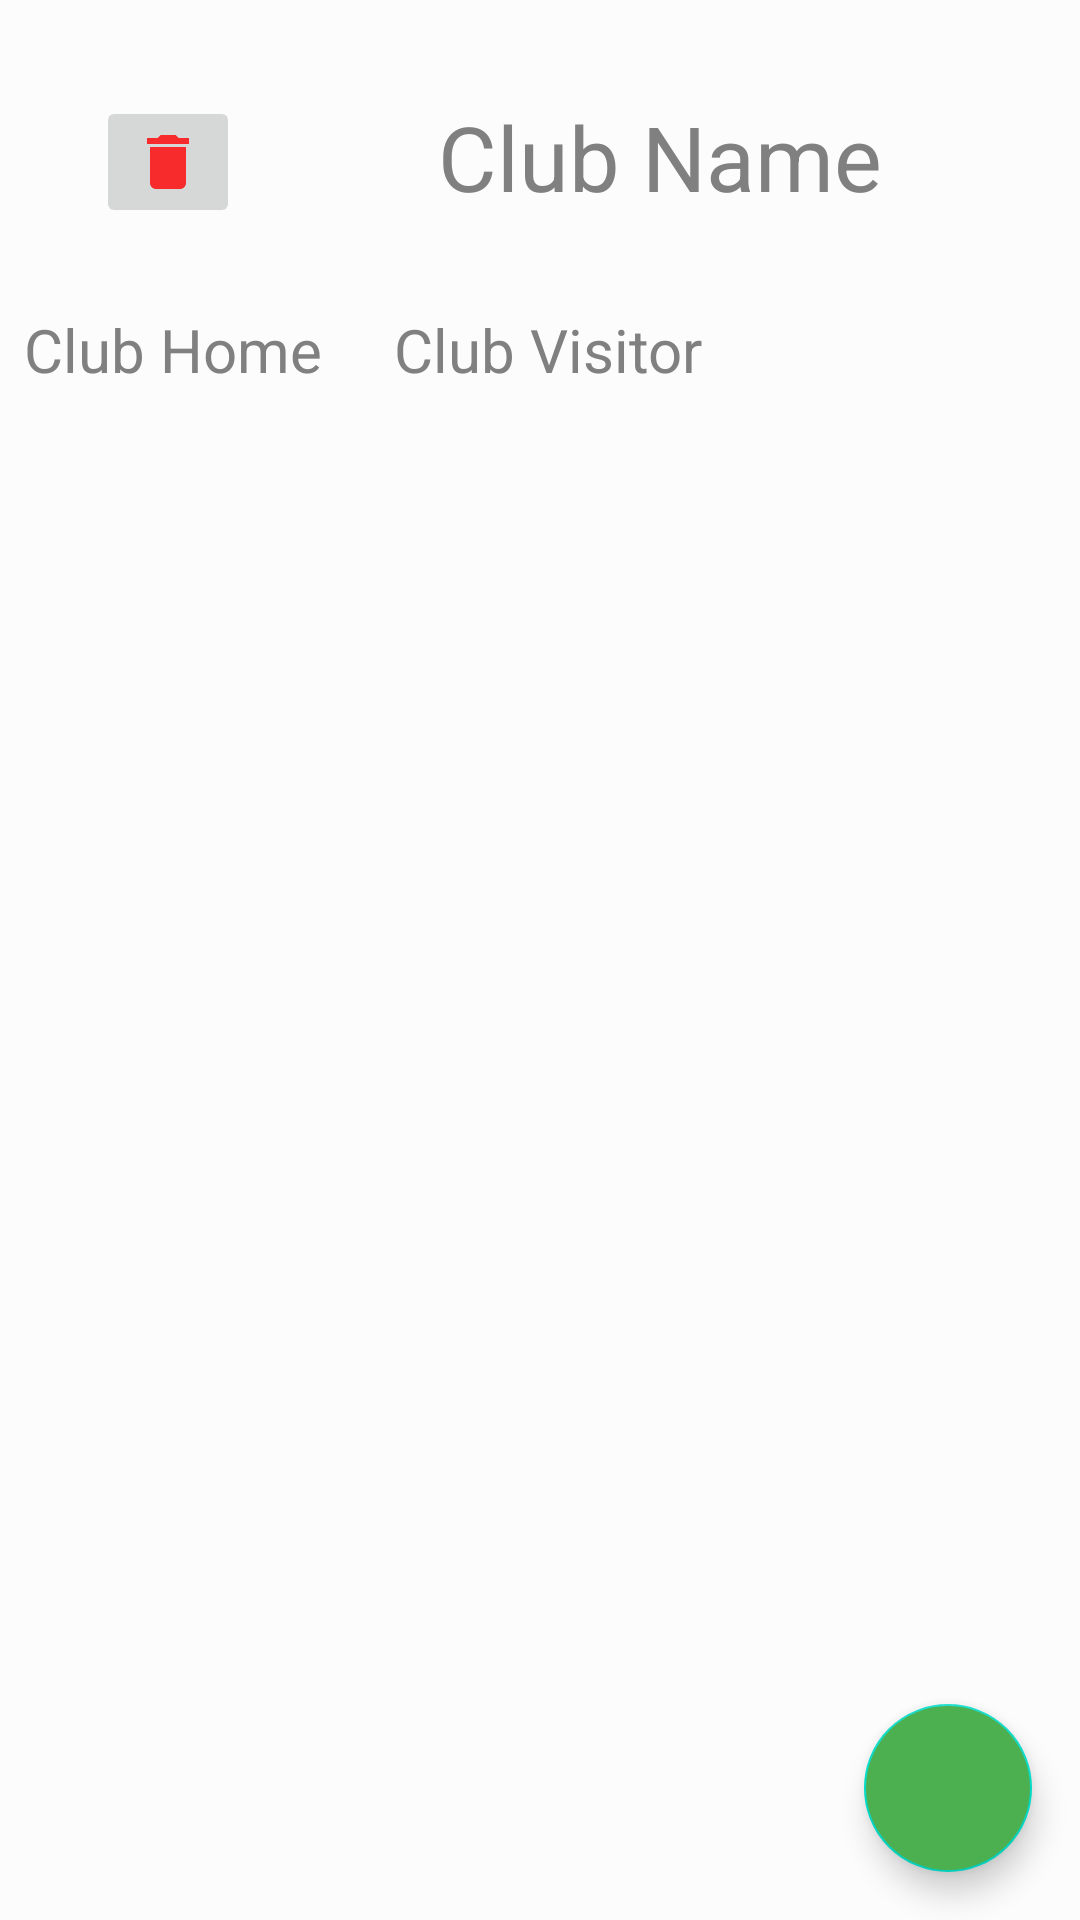

Named icons in this screenshot (1080px×1920px) and their centers, [x,y]:
delete: [168,162]
